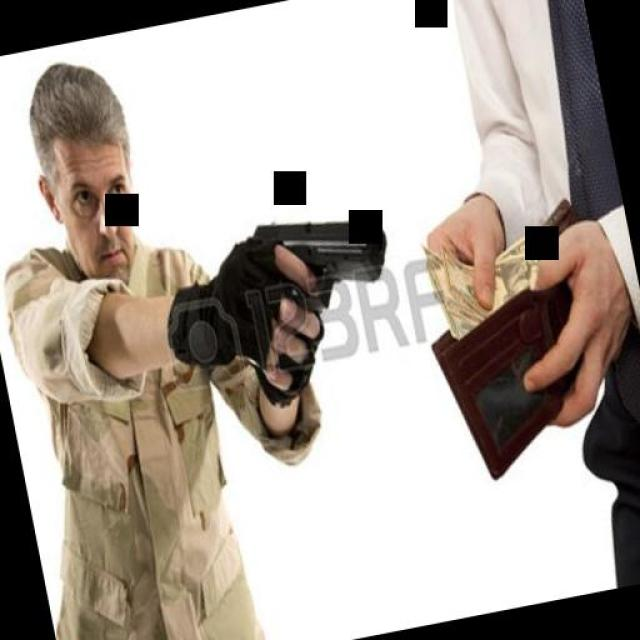gun: (225, 194, 407, 390)
